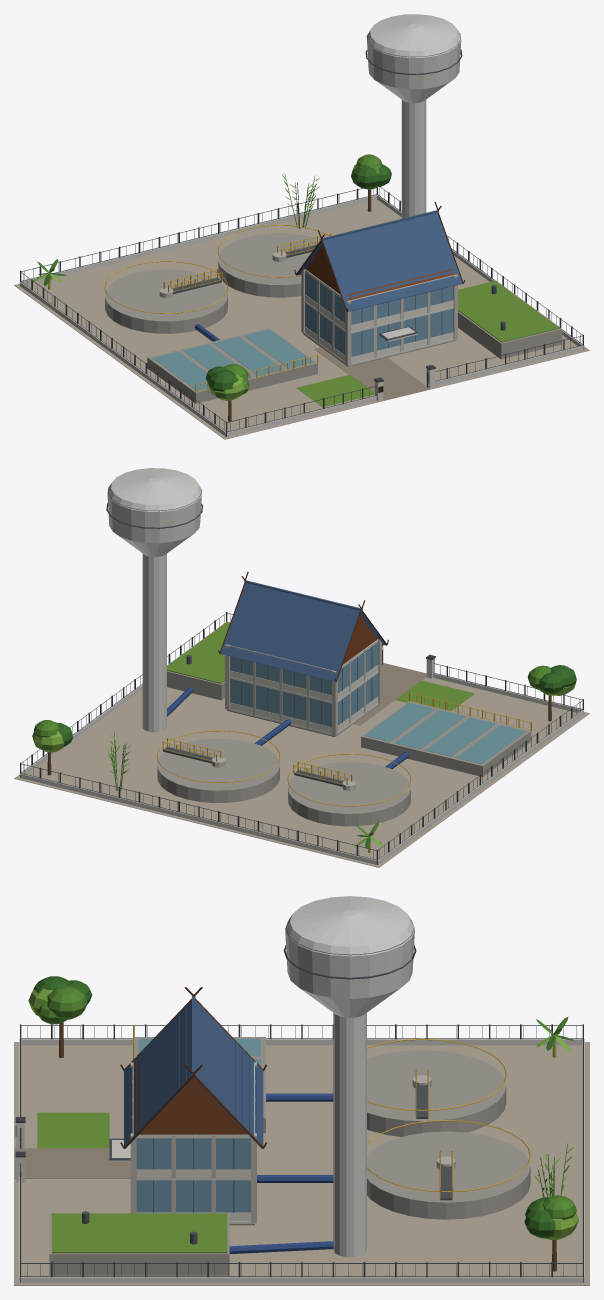
Rendered from water_works.glb.
3 renders of one model, top to bottom at view 1: azimuth 30°, elevation 25°; view 2: azimuth 150°, elevation 25°; view 3: azimuth 270°, elevation 25°, orthographic. The views are drawn at different scales.
Visible parts, largest first — view 1: body; view 2: body; view 3: body.
Boxes of the visible parts, box(x1,y1,x2,y2) form: body: box(14, 14, 589, 439); body: box(14, 468, 589, 867); body: box(14, 896, 589, 1285).
Bounding box in the file's own units: 47.9 × 31.03 × 47.9.
